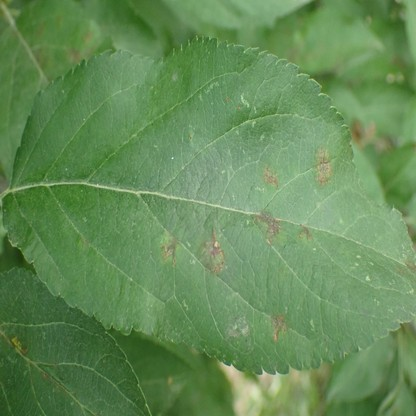powdery_mildew: (225, 312, 250, 339), (171, 69, 178, 82)
scab: (198, 228, 225, 276), (254, 211, 285, 245), (67, 29, 97, 63), (315, 145, 334, 186), (159, 229, 180, 264), (273, 314, 290, 341), (262, 164, 280, 188), (298, 220, 313, 245), (9, 334, 27, 354), (404, 259, 416, 276), (35, 24, 45, 38), (79, 237, 88, 251), (35, 46, 42, 63)
